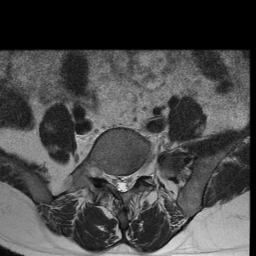CCS_normal: (117, 166, 125, 197)
LFS_normal: (133, 162, 143, 185)
LLS_normal: (125, 166, 134, 193)
RFS_normal: (102, 163, 109, 187)
RLS_normal: (109, 167, 117, 192)
